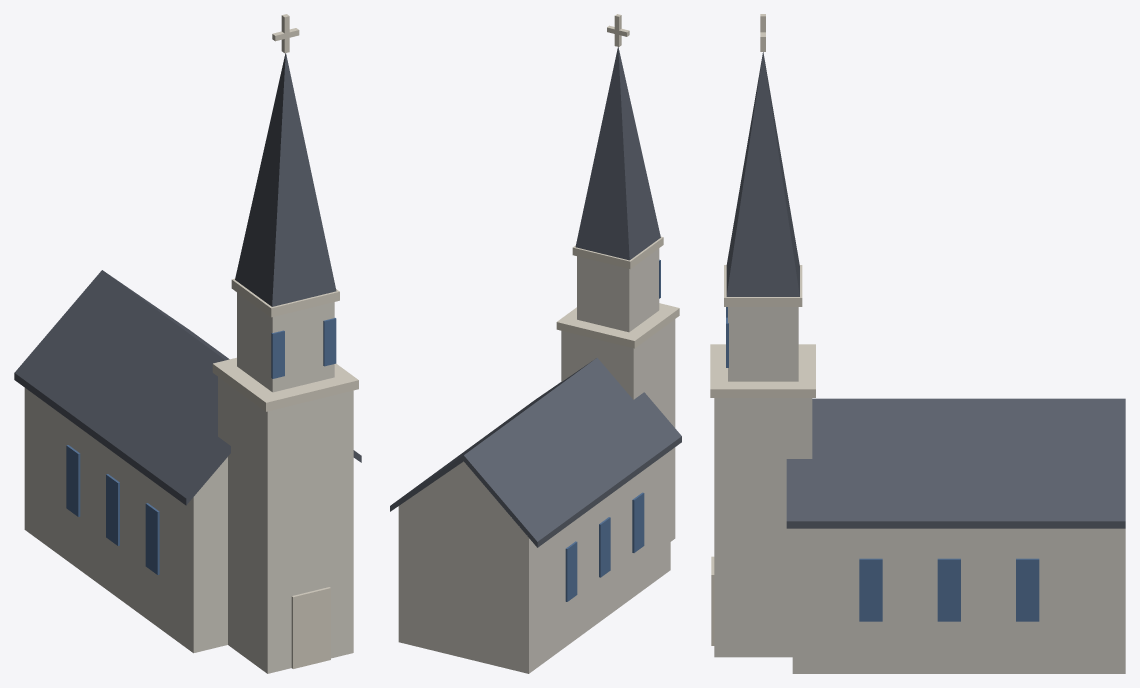
Rendered from church-steeple.glb.
3 views of the same model, side by side, from view 1: azimuth 30°, elevation 25°; view 2: azimuth 150°, elevation 25°; view 3: azimuth 270°, elevation 25° (orthographic). The views are drawn at different scales.
Visible parts, largest first — view 1: ChurchSteeple_Walls, ChurchSteeple_Roof, ChurchSteeple_Trim, ChurchSteeple_Glass; view 2: ChurchSteeple_Walls, ChurchSteeple_Roof, ChurchSteeple_Trim, ChurchSteeple_Glass; view 3: ChurchSteeple_Walls, ChurchSteeple_Roof, ChurchSteeple_Glass, ChurchSteeple_Trim.
Boxes of the visible parts, x1,y1,x2,y2 form: ChurchSteeple_Walls: (24,292,353,673); ChurchSteeple_Roof: (14,53,361,505); ChurchSteeple_Trim: (212,14,358,668); ChurchSteeple_Glass: (66,318,336,574); ChurchSteeple_Walls: (398,248,675,673); ChurchSteeple_Roof: (390,47,681,547); ChurchSteeple_Trim: (556,14,679,348); ChurchSteeple_Glass: (565,259,660,601); ChurchSteeple_Walls: (714,307,1125,673); ChurchSteeple_Roof: (726,52,1125,528); ChurchSteeple_Glass: (726,307,1039,621); ChurchSteeple_Trim: (710,14,815,645).
Bounding box in the file's own units: 20.4 × 70 × 42.4.
